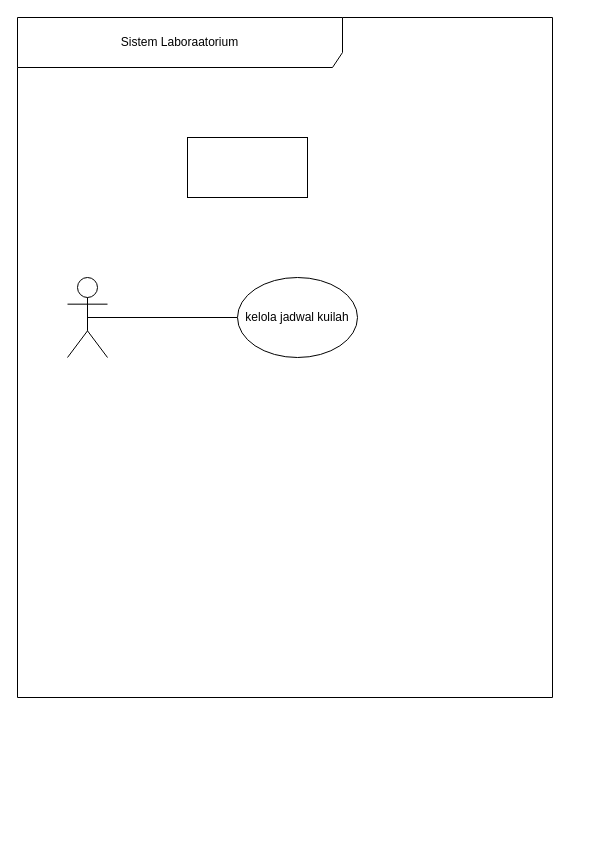
Some shapes in this 613 by 843 pixel diagram are drawn without their labels. The box of each missing label's shape, as (x1, y1, x2, y2) in pixels:
lihat jadwal kuliah: (186, 136, 308, 198)
Mahasiswa: (66, 276, 108, 358)
